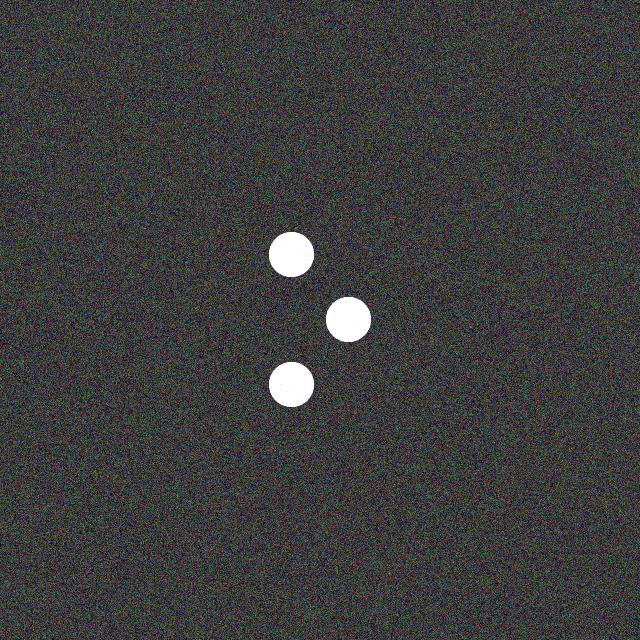O: (266, 230, 374, 413)
